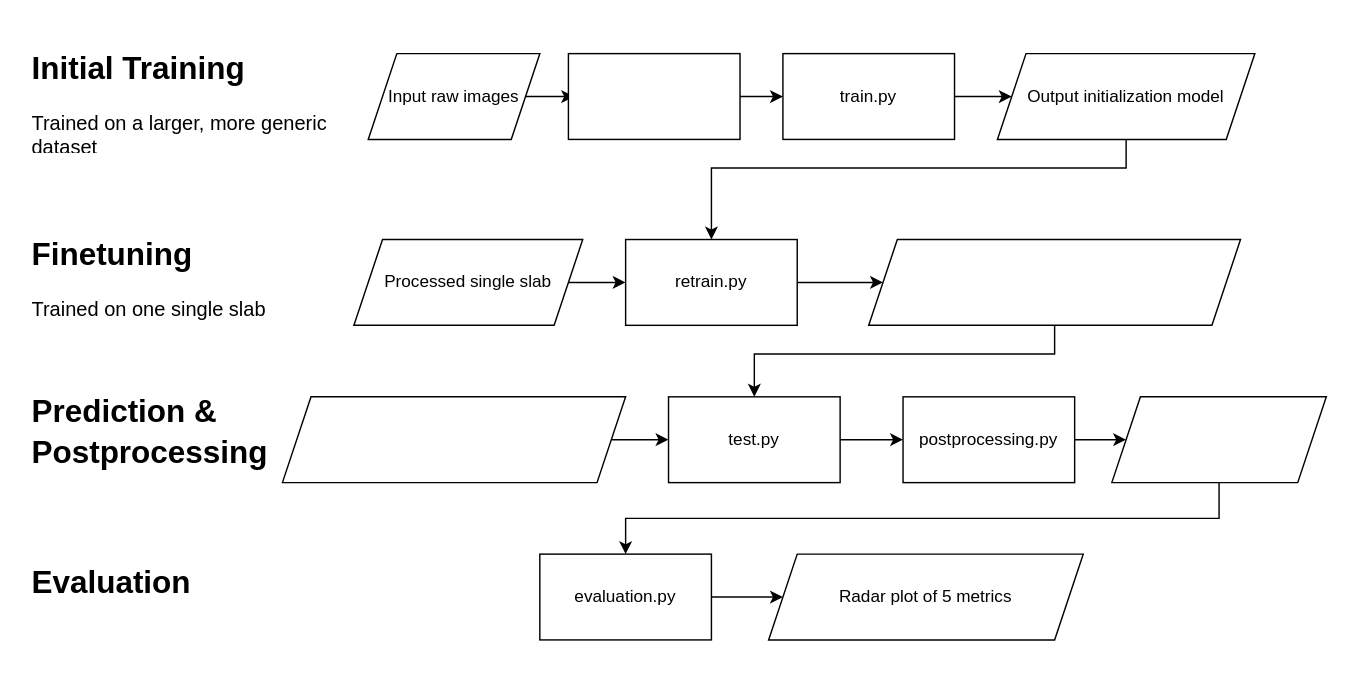
Image size: 1351x692. Some labels were removed from this diagram. The shapes that lost their labels are listed below. From the top down, each one's centre as x and y in pixels, then its label:
(x=653, y=95): preprocessing.py
(x=1054, y=281): Output finetuned model
(x=453, y=439): Input preprocessed image for prediction
(x=1218, y=439): Output segmentation
